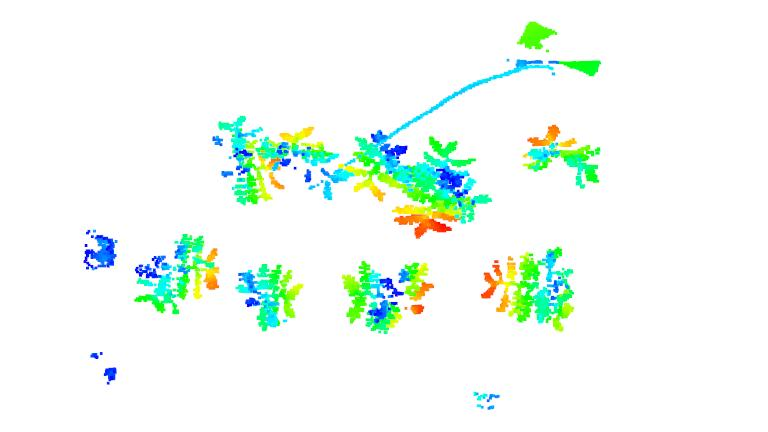chickpea: (214, 117, 333, 207), (394, 138, 493, 240), (479, 245, 577, 332), (132, 234, 224, 316), (342, 259, 434, 333), (336, 127, 413, 201), (527, 122, 601, 187), (235, 263, 301, 328)
